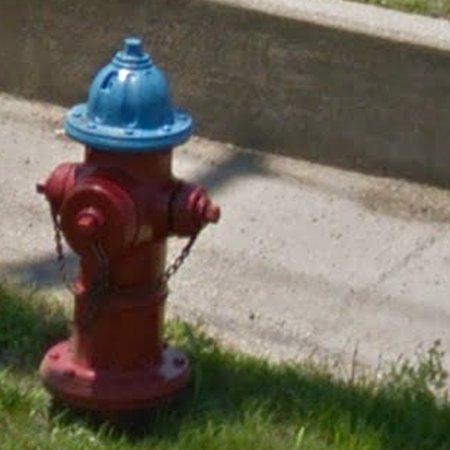a fire hydrant: (37, 36, 221, 413)
